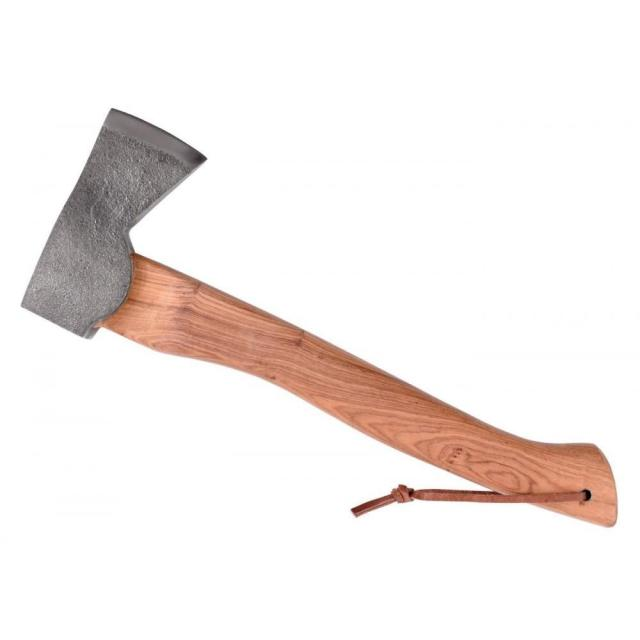Kapak: (29, 91, 621, 530)
